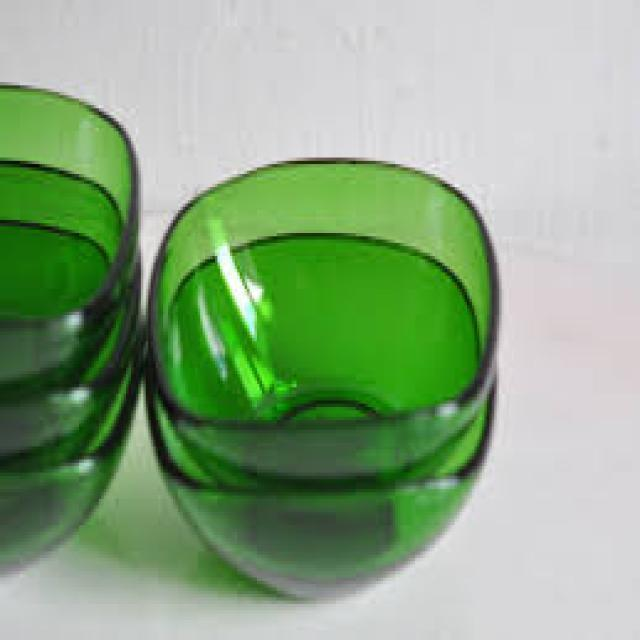Glass: (146, 236, 493, 604), (142, 156, 502, 488), (0, 218, 139, 576), (0, 156, 145, 475), (0, 82, 143, 397)
